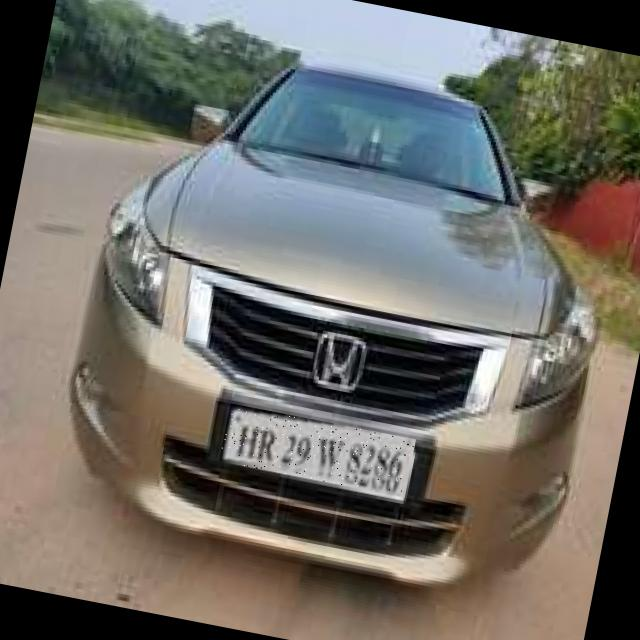Plate: (220, 405, 417, 499)
